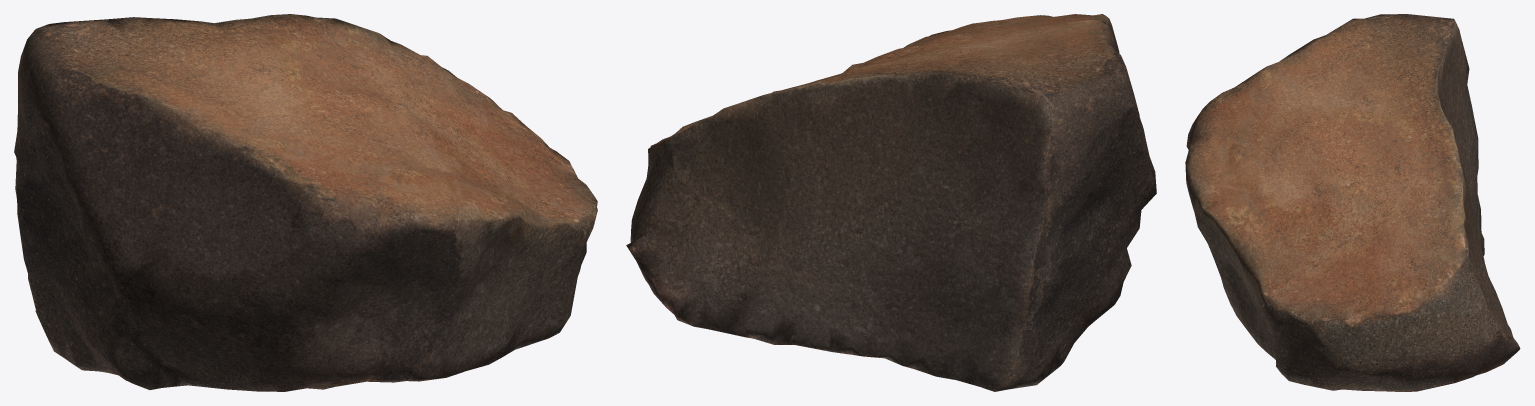
The model's file is SM_yecpfft_tier_2.gltf.
3 views of the same model, side by side, from view 1: azimuth 30°, elevation 25°; view 2: azimuth 150°, elevation 25°; view 3: azimuth 270°, elevation 25° (orthographic). The views are drawn at different scales.
Parts seen in each view (by area): view 1: yecpfft_LOD2_TIER2_000; view 2: yecpfft_LOD2_TIER2_000; view 3: yecpfft_LOD2_TIER2_000.
Part boxes in pixels (x1=…): yecpfft_LOD2_TIER2_000: x1=14, y1=14, x2=597, y2=391; yecpfft_LOD2_TIER2_000: x1=626, y1=14, x2=1156, y2=391; yecpfft_LOD2_TIER2_000: x1=1185, y1=14, x2=1520, y2=391.
Bounding box in the file's own units: 0.3865 × 0.2344 × 0.3089.
1 material, 1 textured.
